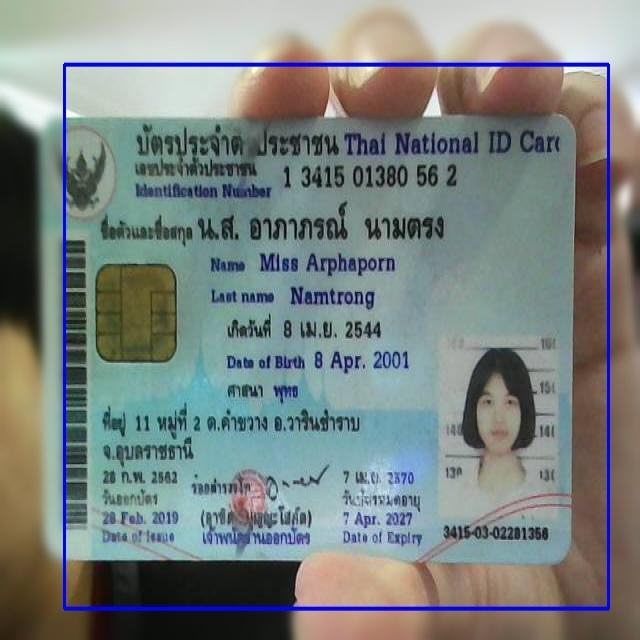Address_th: (95, 399, 374, 469)
Date_of_Birth: (311, 345, 414, 380)
Date_of_Expiry: (340, 508, 419, 528)
Date_of_Issue: (96, 504, 186, 531)
First_Name: (256, 247, 398, 280)
ID_Number: (280, 159, 462, 195)
Image: (436, 335, 561, 526)
Last_Name: (286, 282, 380, 313)
Thai_Name: (194, 200, 447, 249)
